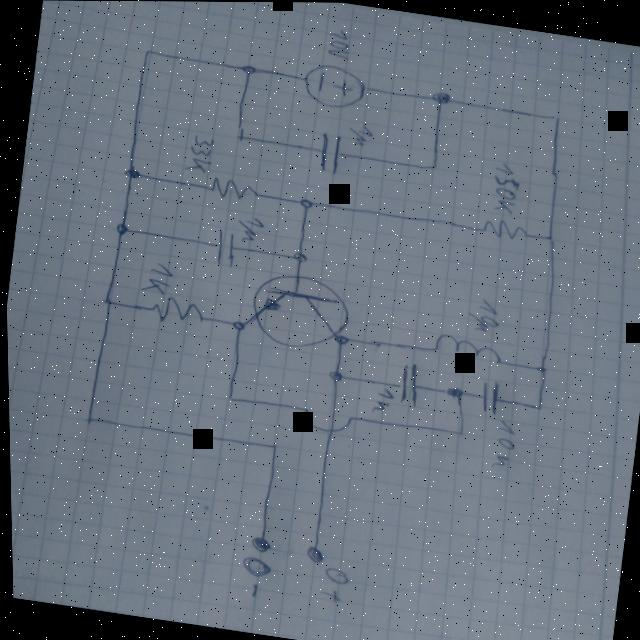capacitor: (391, 359, 423, 411), (314, 130, 344, 178), (210, 226, 238, 269), (475, 379, 502, 418)
crossover: (296, 403, 358, 437)
inductor: (428, 330, 503, 365)
junction: (428, 87, 453, 109), (441, 383, 465, 404), (528, 359, 550, 378), (322, 366, 344, 385), (419, 157, 442, 175), (328, 330, 351, 348), (292, 195, 315, 212), (286, 248, 309, 265), (120, 165, 143, 182), (230, 128, 251, 146), (238, 61, 260, 78), (78, 411, 98, 429), (110, 221, 130, 237), (544, 111, 563, 127), (537, 229, 557, 244), (218, 391, 237, 406), (447, 425, 467, 439), (228, 318, 246, 333), (261, 439, 280, 453), (527, 400, 545, 414), (98, 295, 116, 309), (140, 46, 157, 58)
resistor: (143, 291, 209, 330), (203, 175, 262, 205), (473, 216, 533, 244)
source: (299, 61, 368, 111)
terminal: (296, 542, 325, 565), (246, 533, 271, 555)
text: (485, 158, 523, 217), (483, 418, 519, 471), (232, 554, 271, 600), (461, 295, 502, 336), (181, 133, 217, 176), (314, 564, 350, 604), (138, 259, 175, 297), (322, 25, 355, 62), (233, 213, 264, 246), (367, 385, 396, 415), (345, 122, 374, 147)
transistor: (242, 267, 354, 356)
